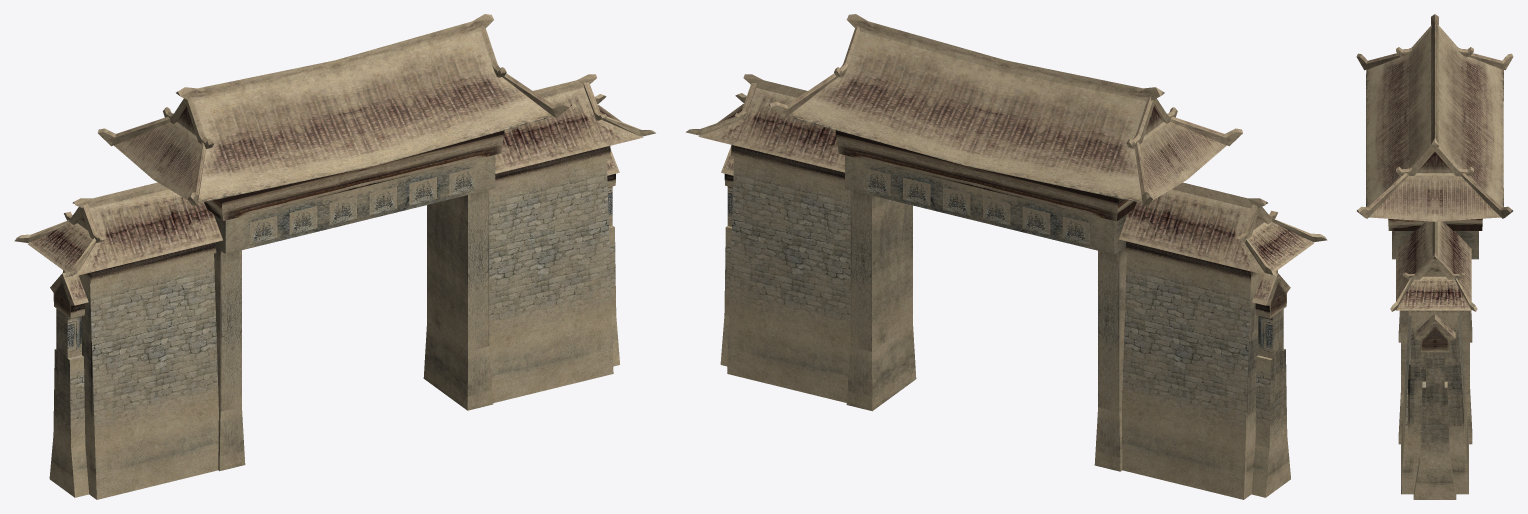
File: desert-middledam-01_lod_01.fbx
3 renders of one model, left to right at view 1: azimuth 30°, elevation 25°; view 2: azimuth 150°, elevation 25°; view 3: azimuth 270°, elevation 25°, orthographic. The views are drawn at different scales.
Parts seen in each view (by area): view 1: desert-middledam-02, desert-middledam-01; view 2: desert-middledam-02, desert-middledam-01; view 3: desert-middledam-01, desert-middledam-02.
Boxes of the visible parts, bbox=[...] form: desert-middledam-02: bbox=[14, 74, 655, 499]; desert-middledam-01: bbox=[98, 14, 571, 471]; desert-middledam-02: bbox=[686, 74, 1327, 499]; desert-middledam-01: bbox=[768, 14, 1242, 471]; desert-middledam-01: bbox=[1356, 14, 1513, 444]; desert-middledam-02: bbox=[1390, 221, 1477, 499].
Bounding box in the file's own units: 22.82 × 13.67 × 6.24.
